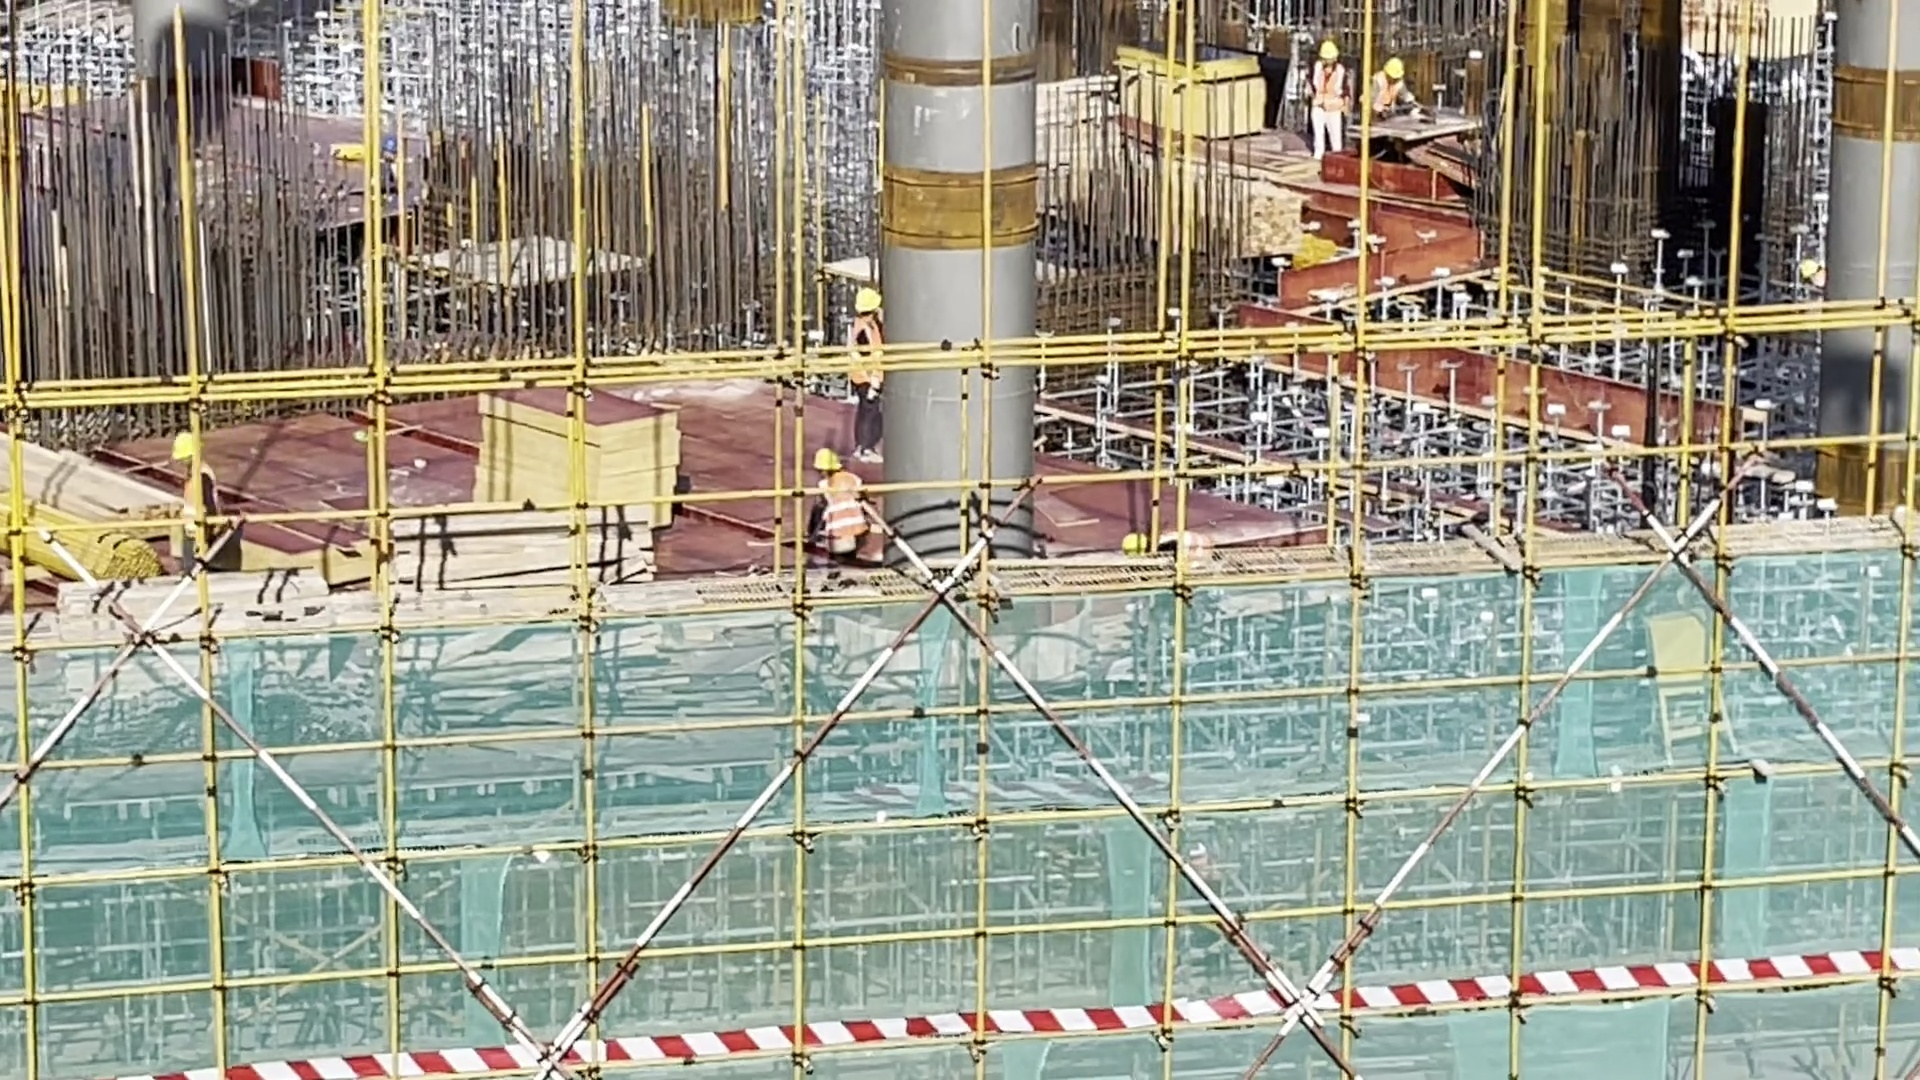board: (472, 377, 683, 543), (1125, 36, 1259, 144)
ebox: (1650, 606, 1737, 757)
helmet: (173, 431, 205, 475), (813, 448, 851, 479), (1121, 528, 1151, 560), (855, 282, 882, 318), (1379, 57, 1407, 88), (1316, 41, 1343, 68)
person: (798, 441, 880, 587), (843, 274, 901, 465), (168, 429, 237, 580), (1303, 33, 1352, 169), (1370, 38, 1418, 161)
vest: (815, 472, 873, 560), (848, 316, 889, 393), (183, 470, 223, 539), (1370, 70, 1409, 122), (1311, 69, 1344, 112)
wood: (369, 501, 650, 613), (11, 438, 172, 598)
